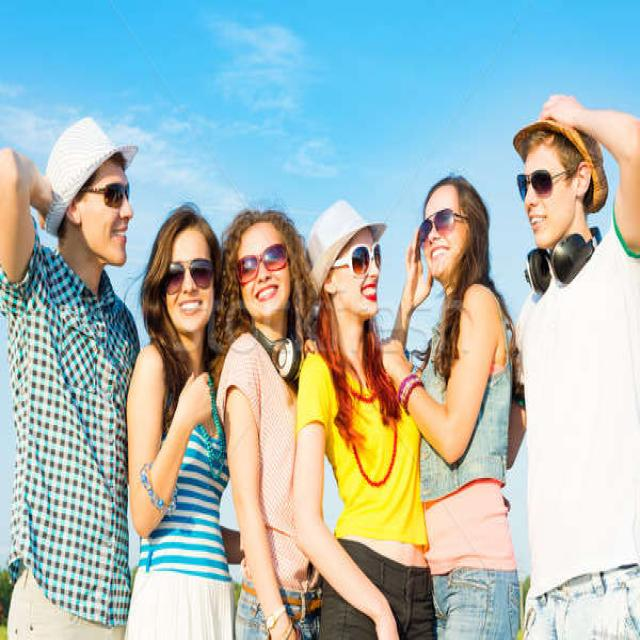hat: (39, 117, 142, 265), (512, 109, 610, 247), (304, 200, 387, 316)
head: (153, 215, 215, 330), (232, 214, 294, 322), (419, 184, 480, 276)
